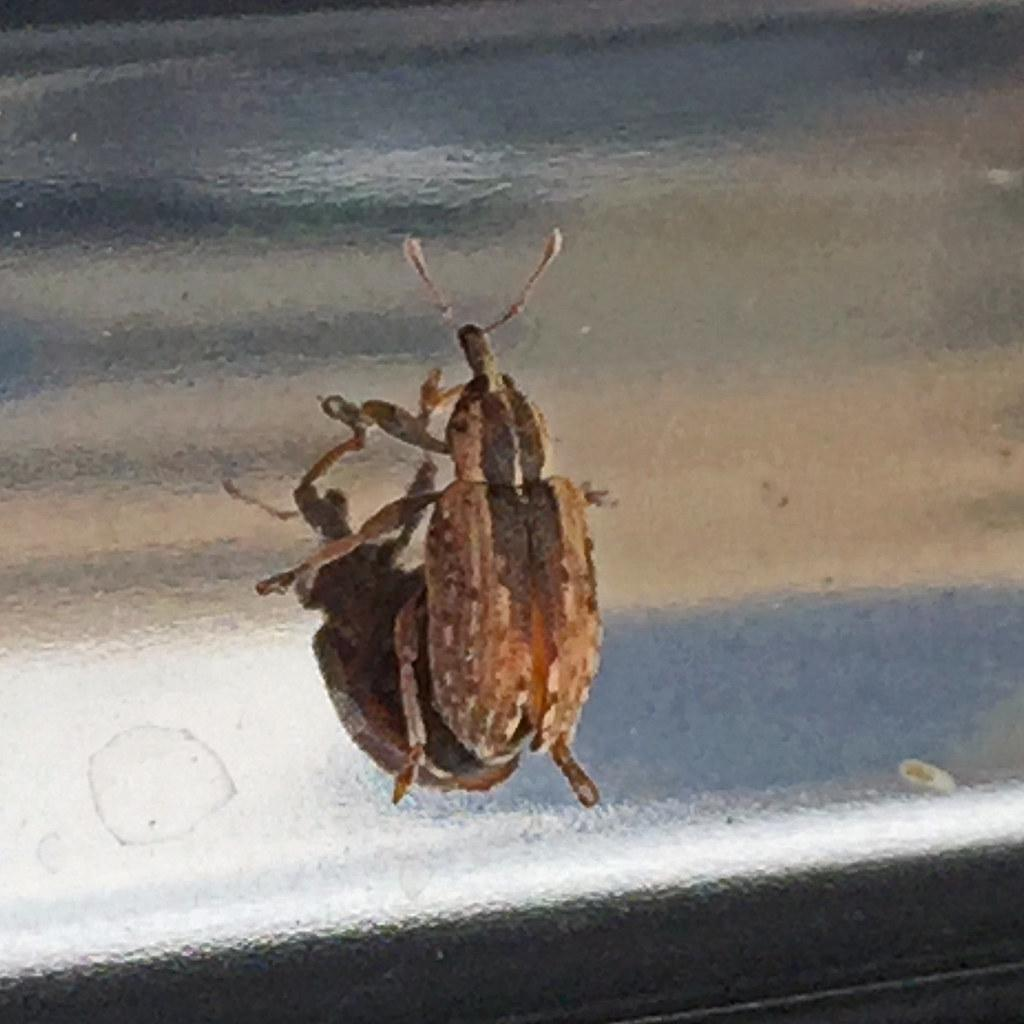weevils: (196, 187, 696, 854)
